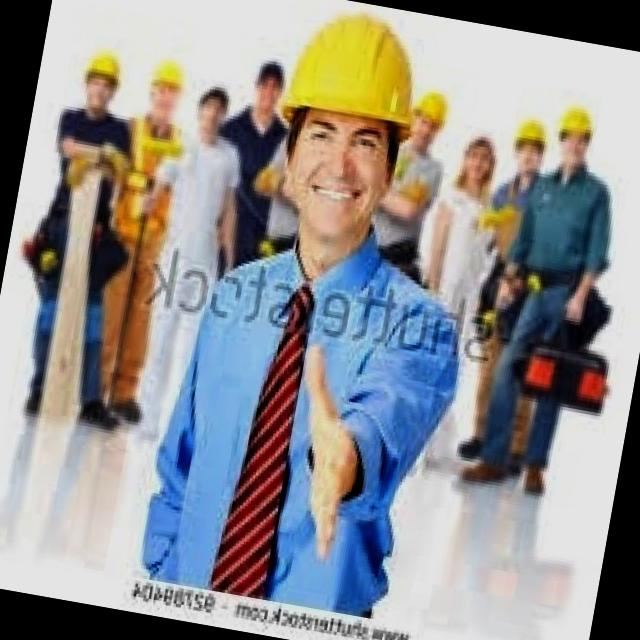no_vest: (121, 214, 488, 595), (511, 154, 624, 292)
